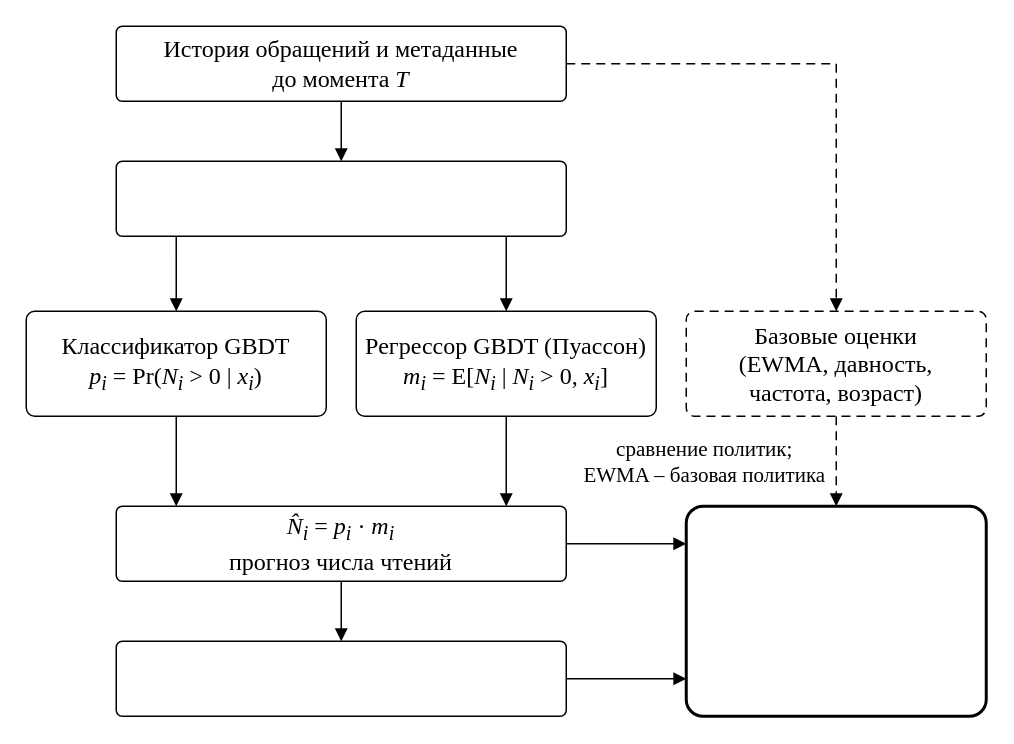
Image size: 1014x744. Some labels were removed from this diagram. Here are the shapes that lost their labels. From the top down, the box of each, then its label:
(115, 160, 566, 236): Признаки x i ( T )
(684, 504, 987, 717): Планировщик размещения
(115, 640, 566, 716): D̂ i = N̂ i · r i · s i прогноз объёма чтения
